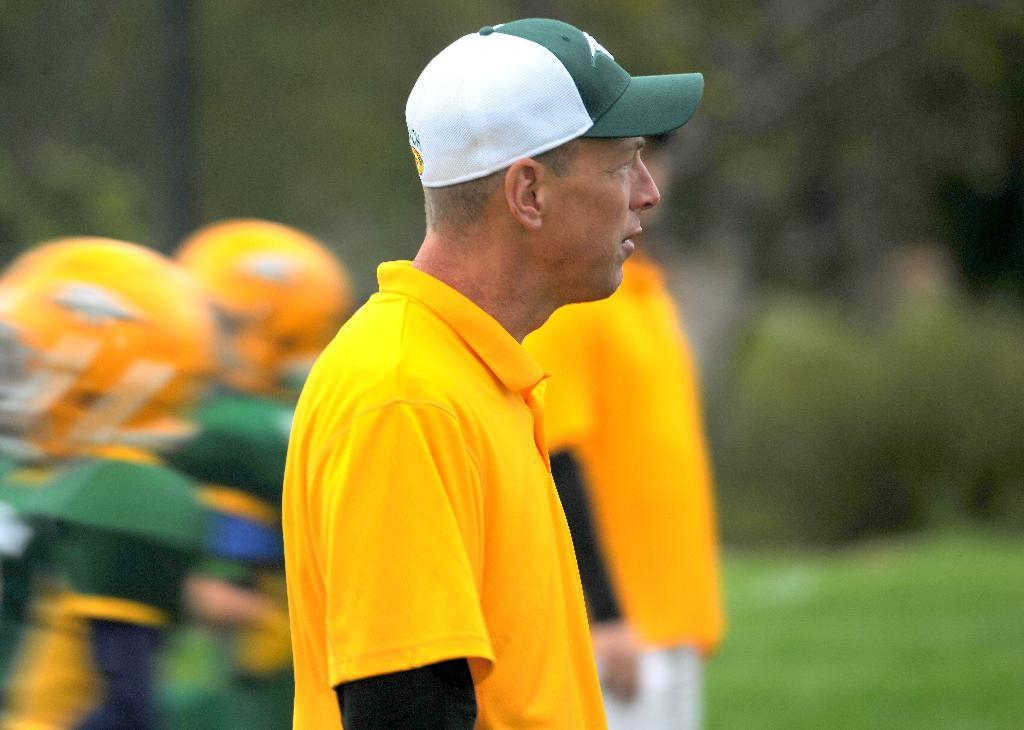Hat: (404, 16, 709, 190)
